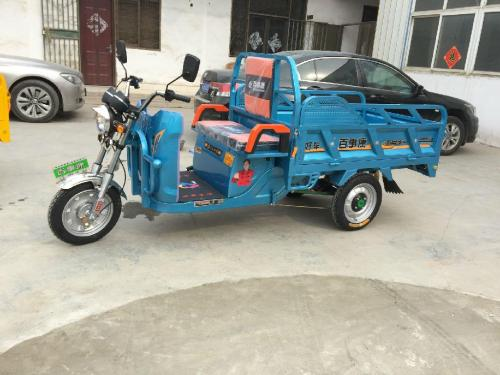tricycle: (51, 31, 446, 244)
